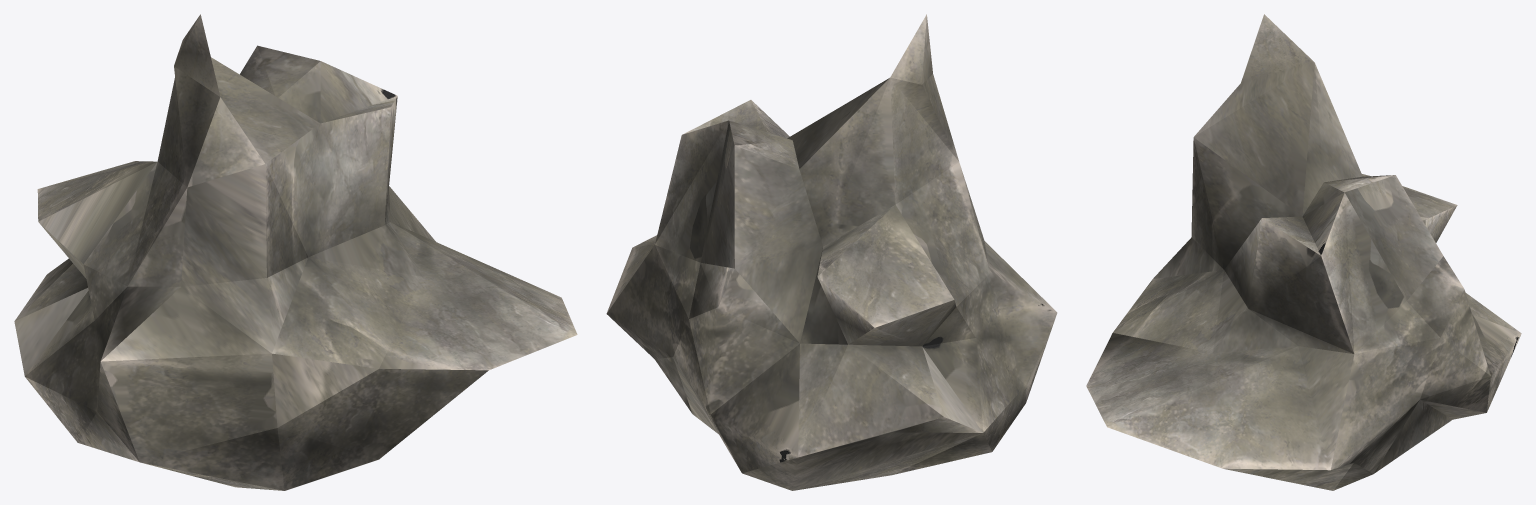
The model's file is rock4_LOD2.fbx.
3 renders of one model, left to right at view 1: azimuth 30°, elevation 25°; view 2: azimuth 150°, elevation 25°; view 3: azimuth 270°, elevation 25°, orthographic. The views are drawn at different scales.
Visible parts, largest first — view 1: rock4; view 2: rock4; view 3: rock4.
Part boxes in pixels (x1,y1,x2,y2): rock4: [14, 14, 577, 490]; rock4: [606, 14, 1057, 490]; rock4: [1086, 14, 1521, 490].
Bounding box in the file's own units: 20.67 × 19.25 × 20.24.
